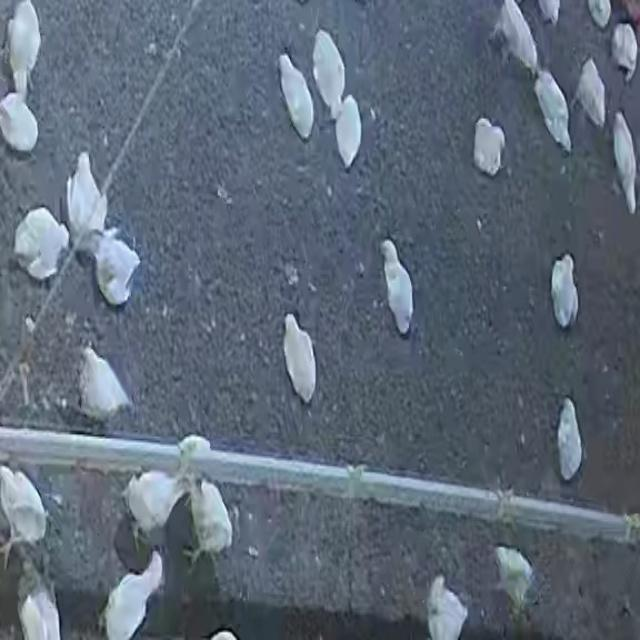chicken: (102, 550, 163, 639), (122, 468, 183, 551), (0, 466, 48, 558), (278, 309, 322, 405), (14, 207, 70, 282), (186, 478, 234, 564), (78, 346, 133, 420), (374, 238, 415, 336), (66, 153, 108, 248), (94, 231, 142, 307), (276, 53, 316, 141), (493, 1, 538, 75), (7, 2, 41, 96), (312, 28, 347, 118), (534, 70, 572, 148), (494, 546, 537, 614), (0, 90, 40, 155), (612, 112, 638, 210), (548, 248, 580, 327), (556, 397, 585, 484), (574, 59, 607, 127), (334, 95, 362, 168), (473, 118, 506, 176), (610, 24, 638, 82)
